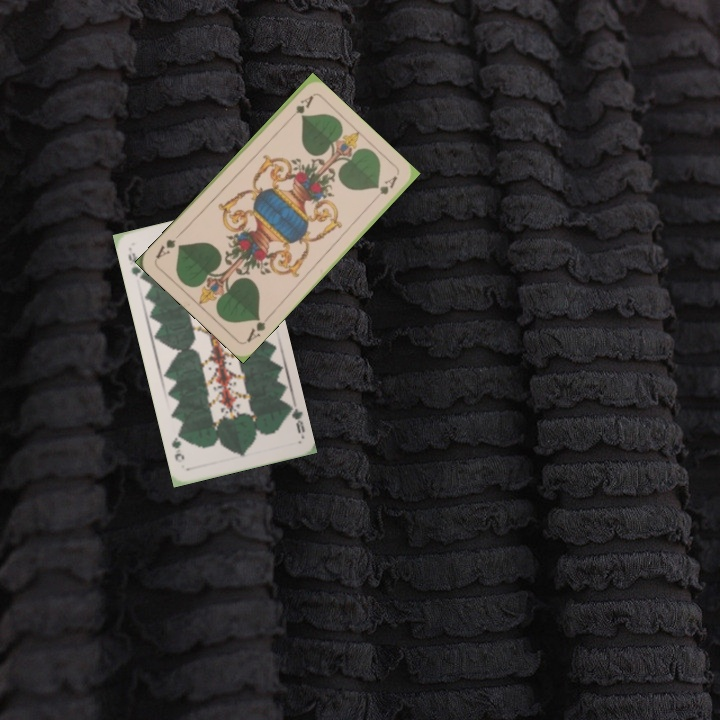G9: (283, 401, 308, 436), (124, 247, 146, 283)
GA: (283, 92, 316, 125), (242, 311, 273, 345)
